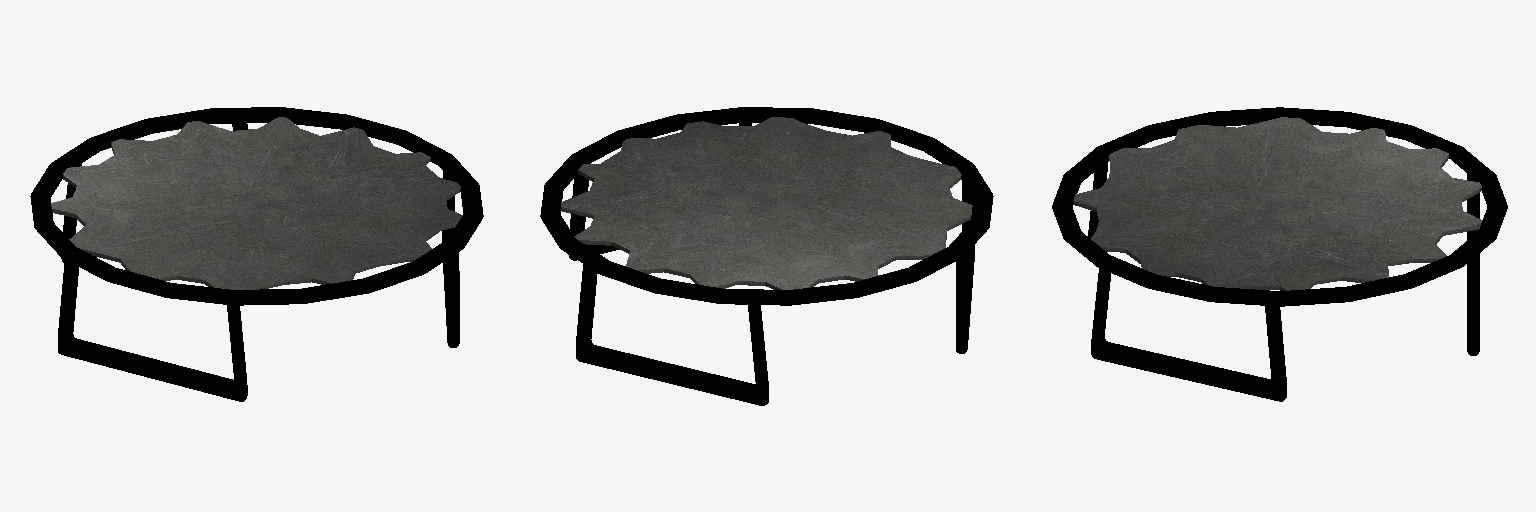
The picture shows the model from 3 angles: view 1: azimuth 30°, elevation 25°; view 2: azimuth 150°, elevation 25°; view 3: azimuth 270°, elevation 25°; orthographic projection.
Bounding box in the file's own units: 3.78 × 1.02 × 3.76.
2 materials, 1 textured.